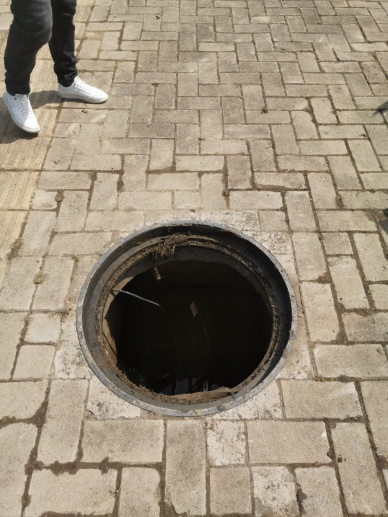lose: (76, 219, 298, 416)
